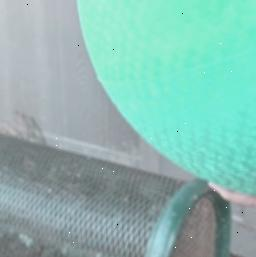algae: (78, 0, 256, 203)
